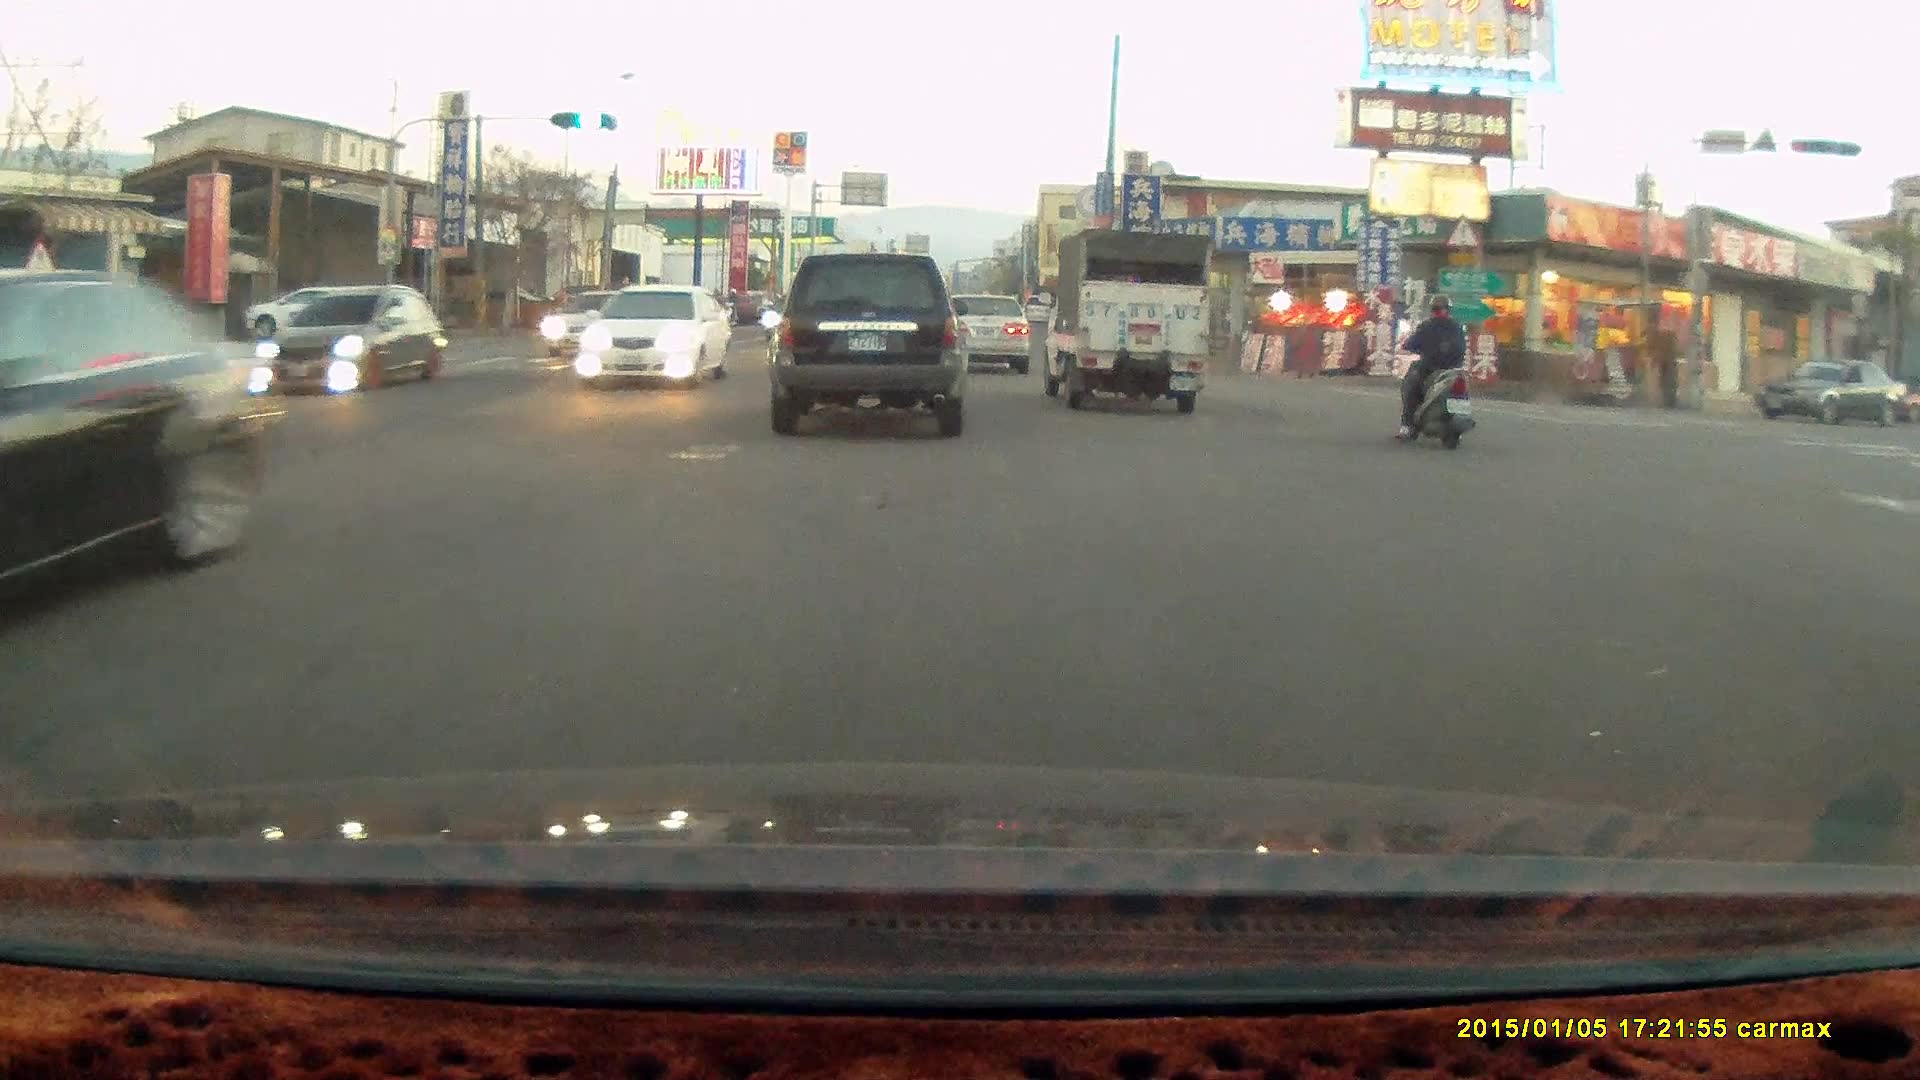rider: (1391, 289, 1477, 448)
vehicle: (1, 268, 274, 632), (767, 250, 970, 436), (1038, 226, 1212, 413), (252, 284, 450, 390), (579, 286, 734, 388), (1756, 359, 1909, 430), (544, 288, 658, 366), (930, 289, 1030, 375), (941, 293, 1035, 378), (250, 284, 383, 334)
